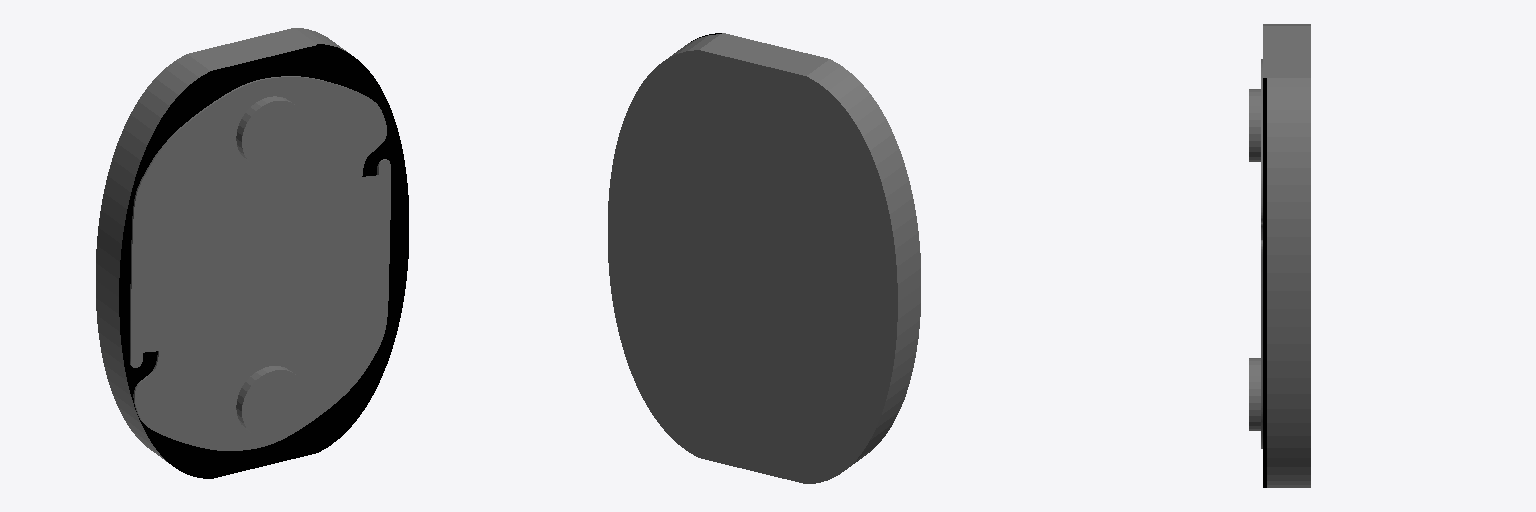
File: tactile.obj
3 renders of one model, left to right at view 1: azimuth 30°, elevation 25°; view 2: azimuth 150°, elevation 25°; view 3: azimuth 270°, elevation 25°, orthographic.
Parts seen in each view (by area): view 1: LIGHT_CATCHER_2, photocell, Cylinder.001, Cylinder; view 2: photocell; view 3: photocell, Cylinder.001, Cylinder, LIGHT_CATCHER_2.
Part boxes in pixels (x1,y1,x2,y2): LIGHT_CATCHER_2: (130,76,390,450); photocell: (96,28,408,478); Cylinder.001: (236,96,305,168); Cylinder: (236,366,305,437); photocell: (608,33,920,483); photocell: (1263,24,1310,487); Cylinder.001: (1249,89,1260,161); Cylinder: (1249,358,1260,430); LIGHT_CATCHER_2: (1261,59,1262,448).
Bounding box in the file's own units: 0.0284 × 0.0382 × 0.0052.